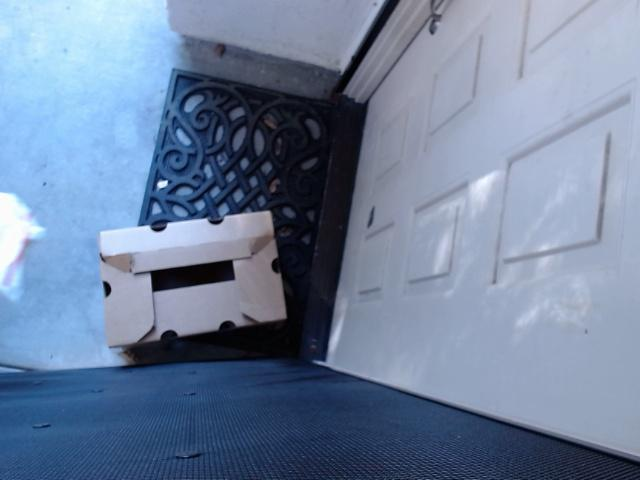box: (99, 209, 286, 364)
